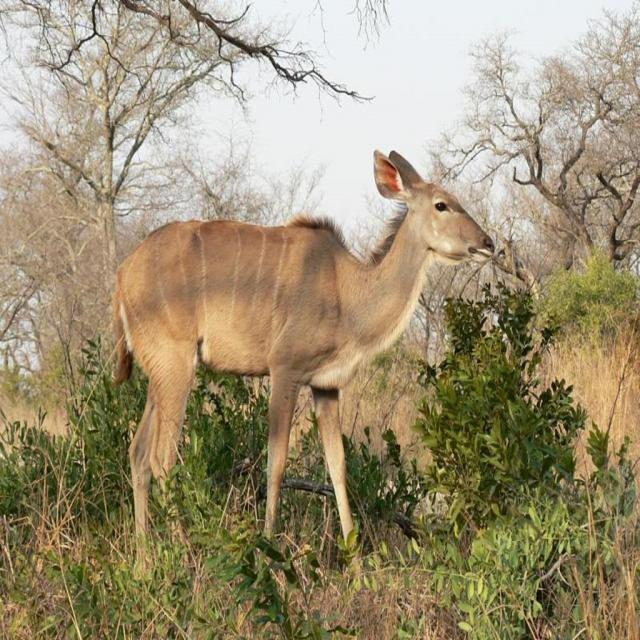Deer: (112, 148, 492, 580)
